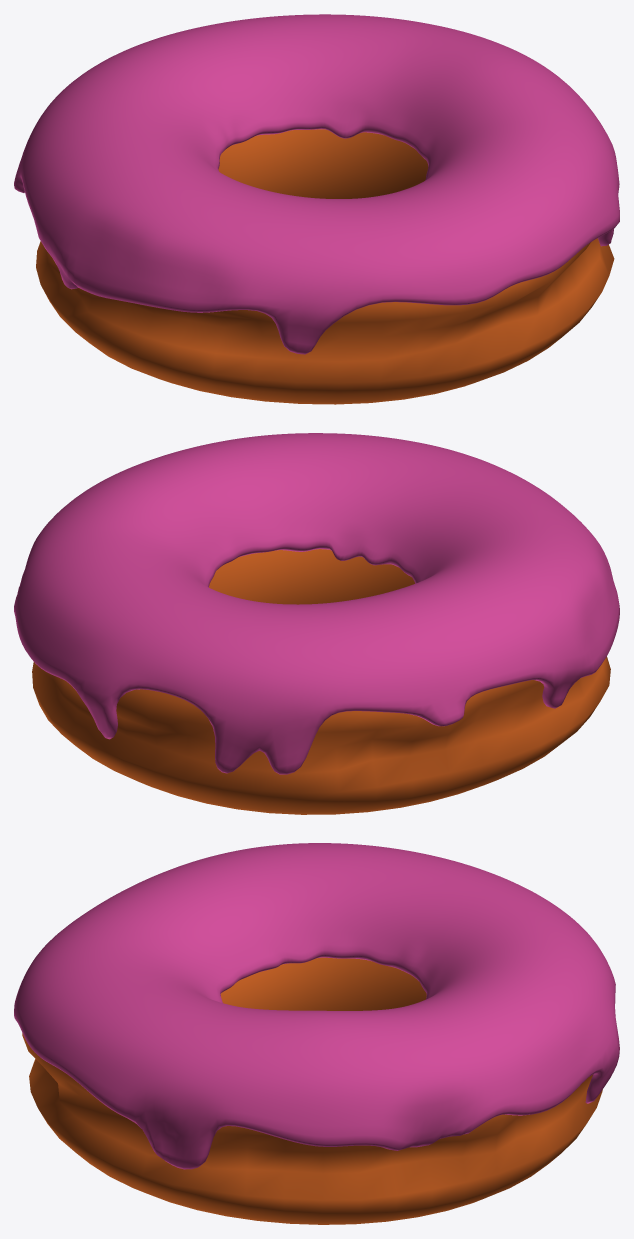
The model's file is custom.obj.
3 renders of one model, top to bottom at view 1: azimuth 30°, elevation 25°; view 2: azimuth 150°, elevation 25°; view 3: azimuth 270°, elevation 25°, orthographic. The views are drawn at different scales.
Parts seen in each view (by area): view 1: Icing_Torus.003, Donut_Torus.002; view 2: Icing_Torus.003, Donut_Torus.002; view 3: Icing_Torus.003, Donut_Torus.002.
Boxes of the visible parts, x1,y1,x2,y2 form: Icing_Torus.003: [14, 14, 619, 354]; Donut_Torus.002: [36, 129, 614, 404]; Icing_Torus.003: [14, 433, 619, 774]; Donut_Torus.002: [32, 549, 610, 814]; Icing_Torus.003: [14, 843, 619, 1169]; Donut_Torus.002: [22, 957, 602, 1224].
Size of what is drawn, in the model's own units: 0.1482 by 0.0538 by 0.1502.
